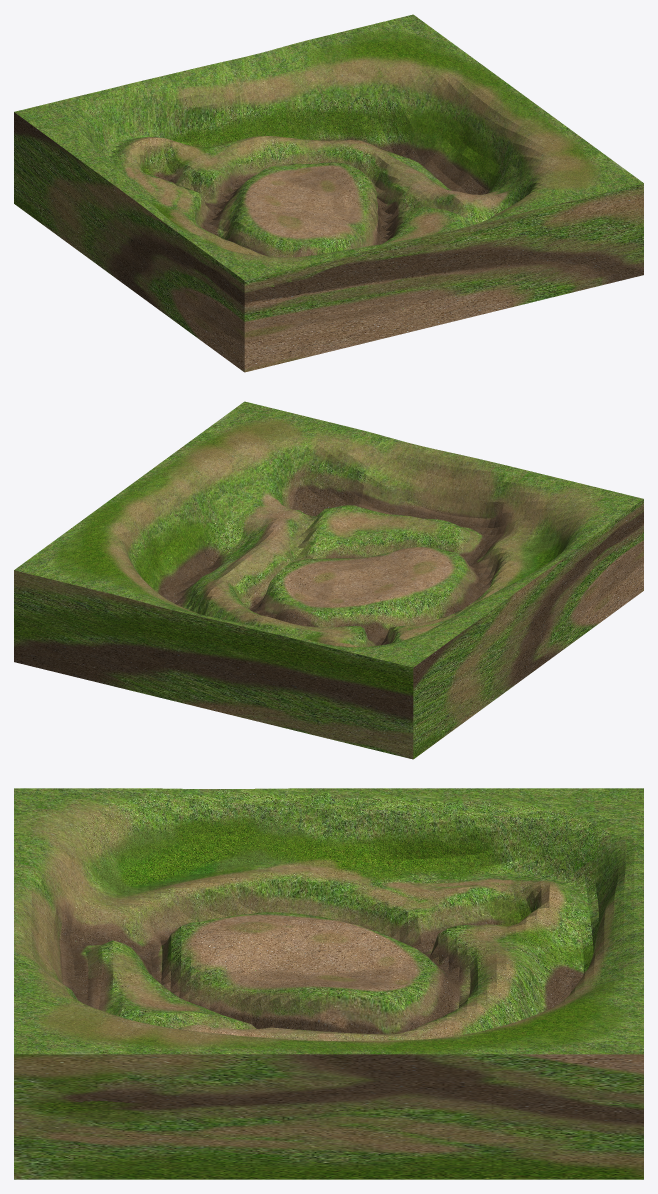
The model's file is world.glb.
3 views of the same model, one above another, from view 1: azimuth 30°, elevation 25°; view 2: azimuth 150°, elevation 25°; view 3: azimuth 270°, elevation 25° (orthographic). The views are drawn at different scales.
Visible parts, largest first — view 1: model; view 2: model; view 3: model.
Part boxes in pixels (bbox=[...]): model: bbox=[14, 14, 643, 372]; model: bbox=[14, 401, 643, 759]; model: bbox=[14, 788, 643, 1179].
Size of the model in its own units: 14.74 by 3.24 by 14.74.
1 material, 1 textured.
